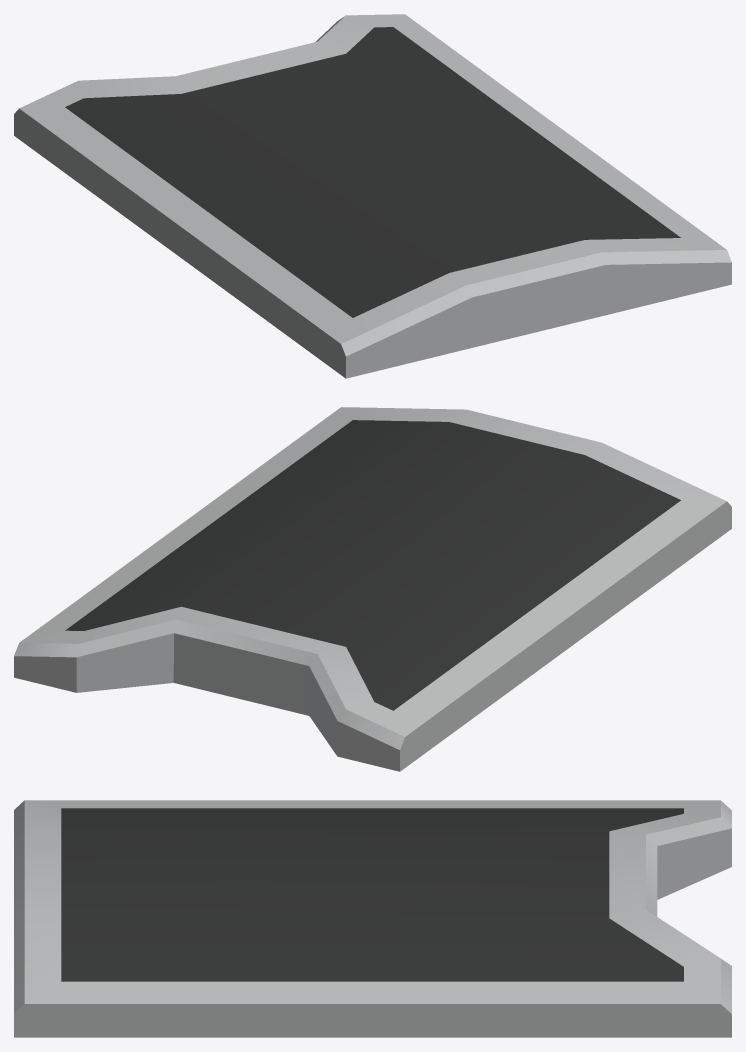
File: Laptop_005_Monitor.fbx
3 views of the same model, one above another, from view 1: azimuth 30°, elevation 25°; view 2: azimuth 150°, elevation 25°; view 3: azimuth 270°, elevation 25° (orthographic). The views are drawn at different scales.
Parts seen in each view (by area): view 1: Laptop_005_Monitor; view 2: Laptop_005_Monitor; view 3: Laptop_005_Monitor.
Boxes of the visible parts, <box> form: Laptop_005_Monitor: <box>14,14,731,378</box>; Laptop_005_Monitor: <box>14,407,731,771</box>; Laptop_005_Monitor: <box>14,800,731,1037</box>.
Size of the model in its own units: 31.16 by 46.42 by 4.57.
